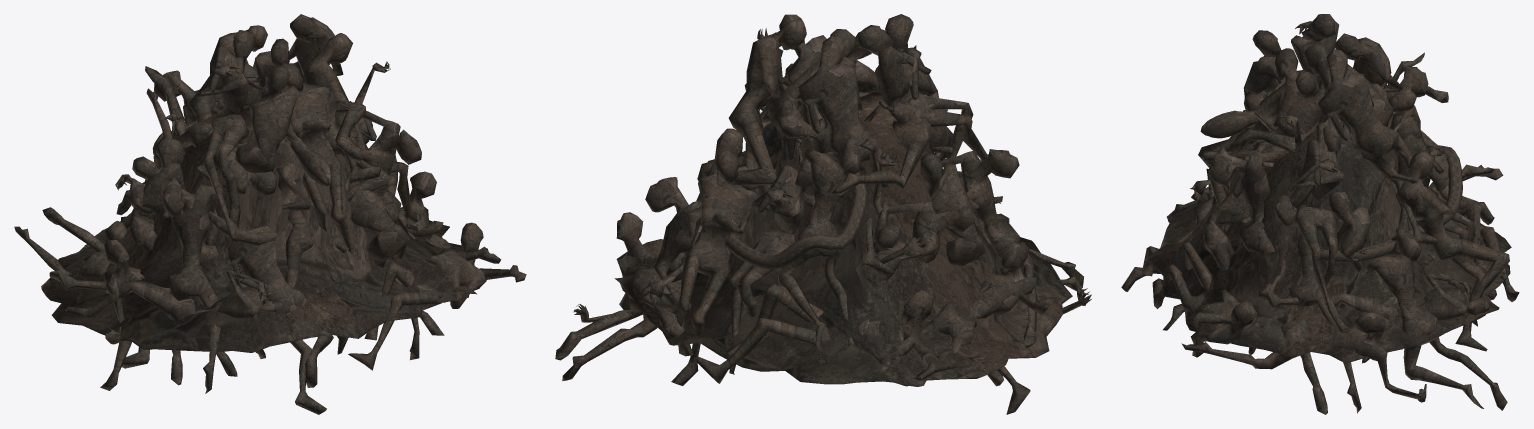
Rendered from aeg277_090.glb.
3 views of the same model, side by side, from view 1: azimuth 30°, elevation 25°; view 2: azimuth 150°, elevation 25°; view 3: azimuth 270°, elevation 25° (orthographic). The views are drawn at different scales.
Parts seen in each view (by area): view 1: mesh[2], mesh[1], mesh[0]; view 2: mesh[2], mesh[1], mesh[0]; view 3: mesh[2], mesh[1], mesh[0].
Boxes of the visible parts, left/top/right/bottom form: mesh[2]: left=14, top=14, right=526, bottom=414; mesh[1]: left=41, top=105, right=476, bottom=352; mesh[0]: left=152, top=121, right=365, bottom=245; mesh[2]: left=555, top=14, right=1091, bottom=414; mesh[1]: left=614, top=91, right=1072, bottom=386; mesh[0]: left=725, top=91, right=962, bottom=269; mesh[2]: left=1121, top=14, right=1519, bottom=414; mesh[1]: left=1145, top=86, right=1511, bottom=363; mesh[0]: left=1200, top=110, right=1462, bottom=262.
Size of the model in its own units: 4.3 by 3.33 by 3.75.
Materials: 3 (3 with a texture image).
